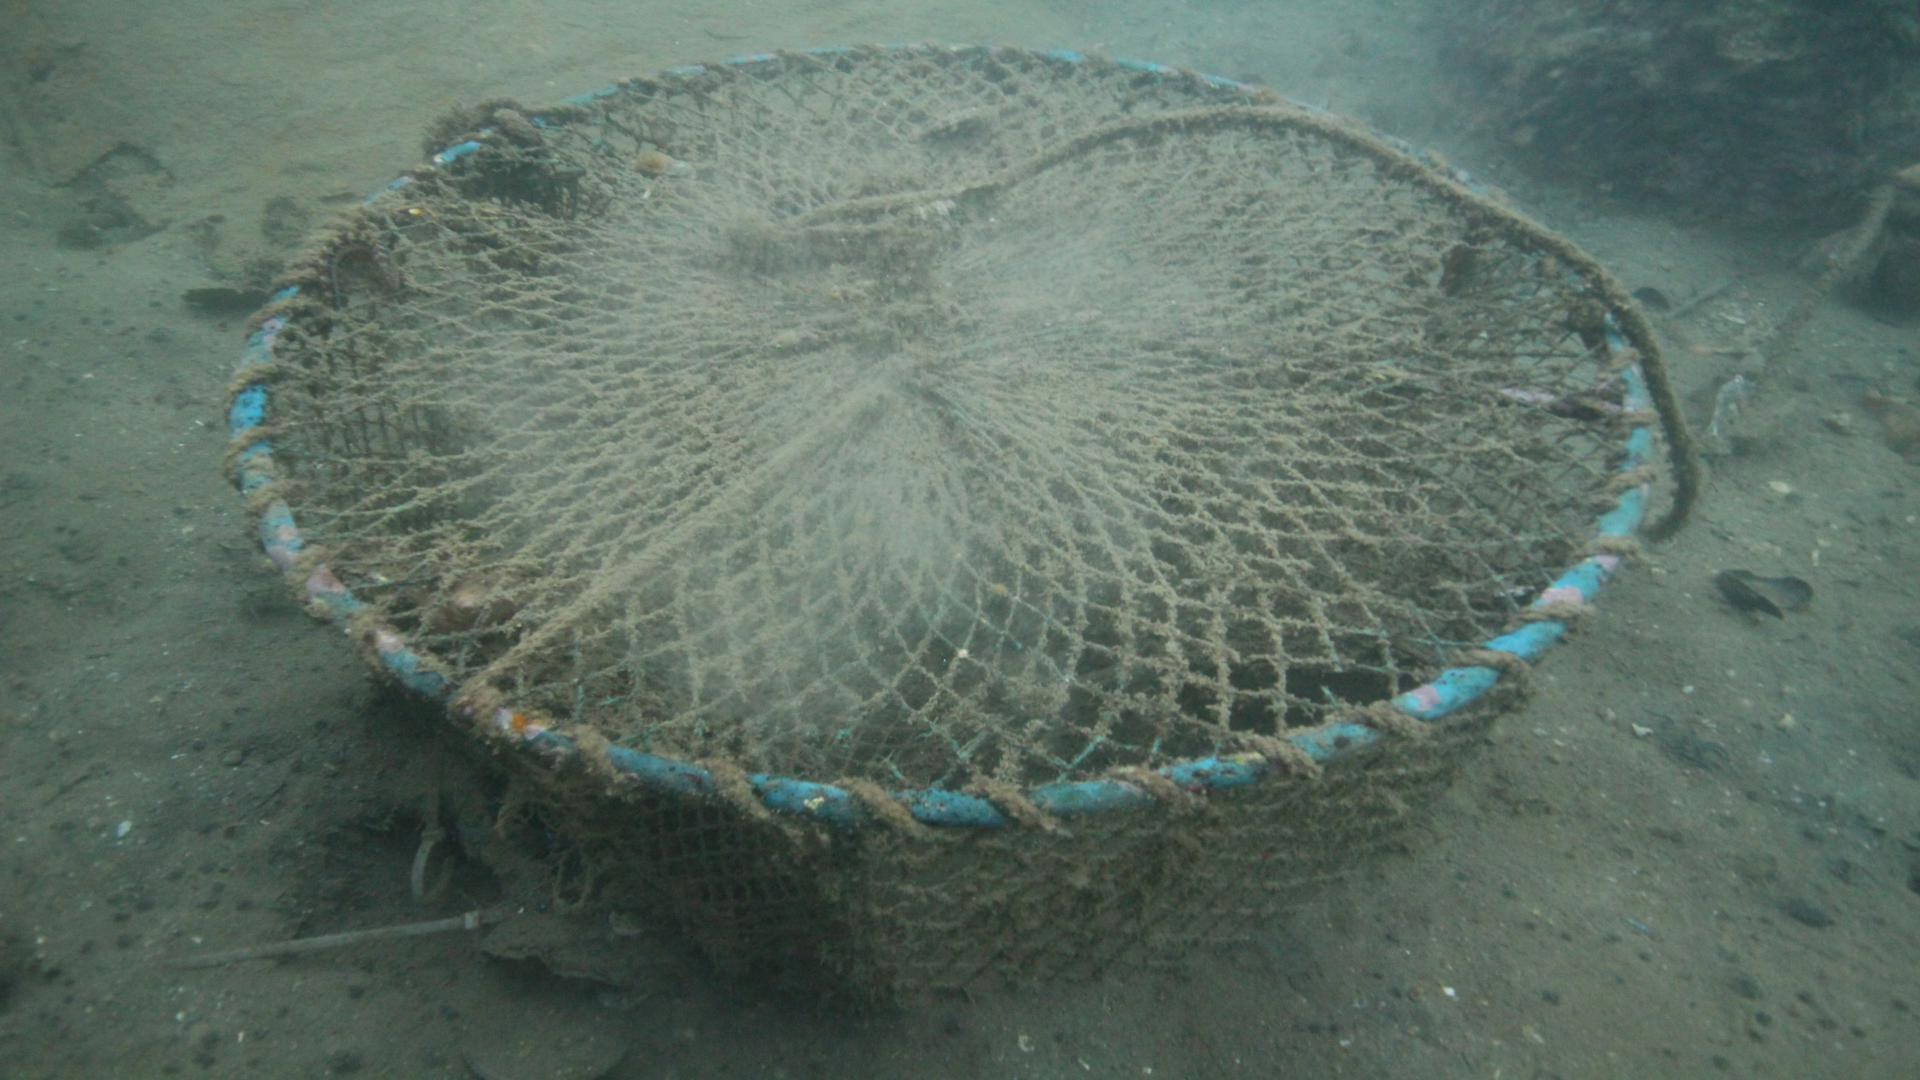circular fish trap: (218, 44, 1658, 1036)
